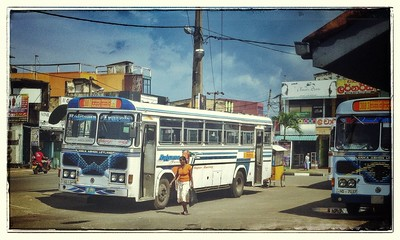bus: (58, 96, 273, 211), (329, 96, 400, 215)
motorbike: (31, 157, 52, 175)
